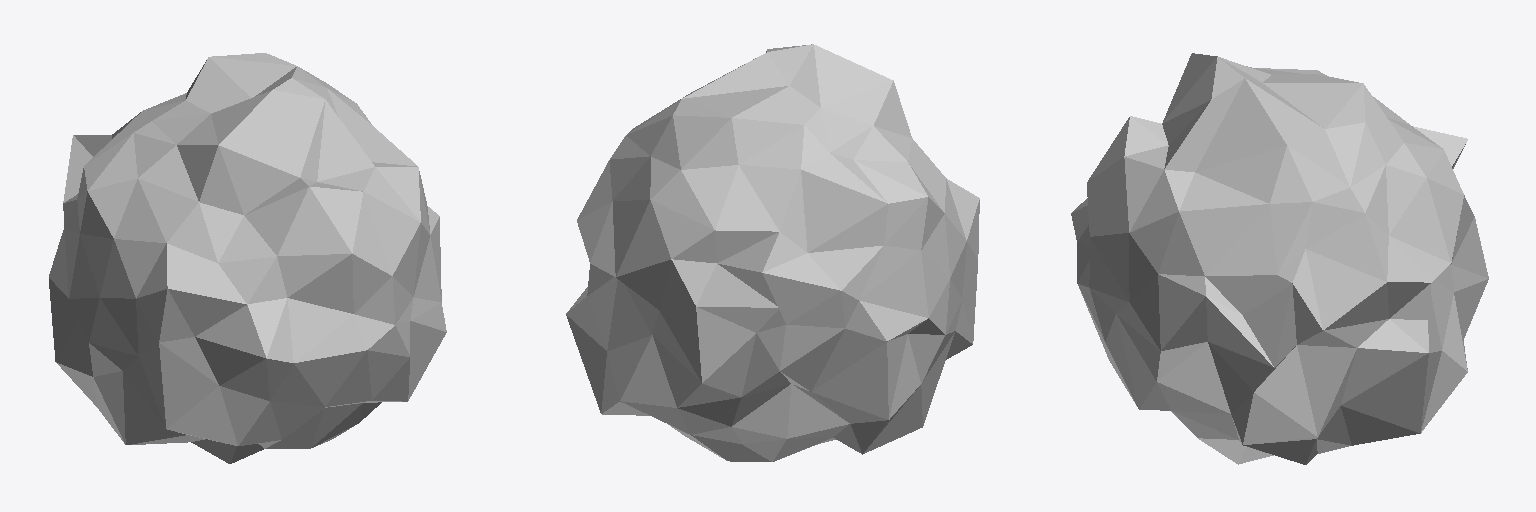
File: fire_000018.obj
3 views of the same model, side by side, from view 1: azimuth 30°, elevation 25°; view 2: azimuth 150°, elevation 25°; view 3: azimuth 270°, elevation 25° (orthographic).
Visible parts, largest first — view 1: Icosphere; view 2: Icosphere; view 3: Icosphere.
Boxes of the visible parts, box(x1,y1,x2,y2) form: Icosphere: box(49, 53, 446, 463); Icosphere: box(566, 44, 979, 461); Icosphere: box(1071, 53, 1488, 464).
Bounding box in the file's own units: 1.53 × 1.61 × 1.59.